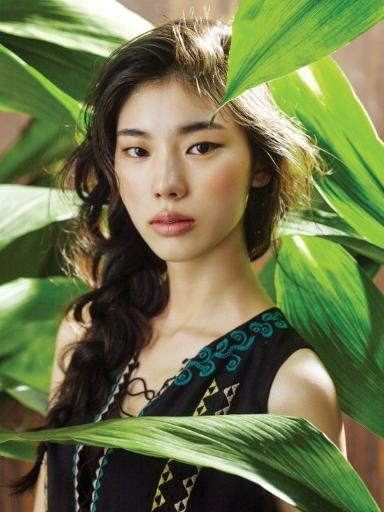left_eye: (187, 141, 224, 160)
left_lip_corner: (189, 216, 201, 228)
right_eye: (123, 147, 152, 162)
right_lip_corner: (147, 218, 157, 229)
